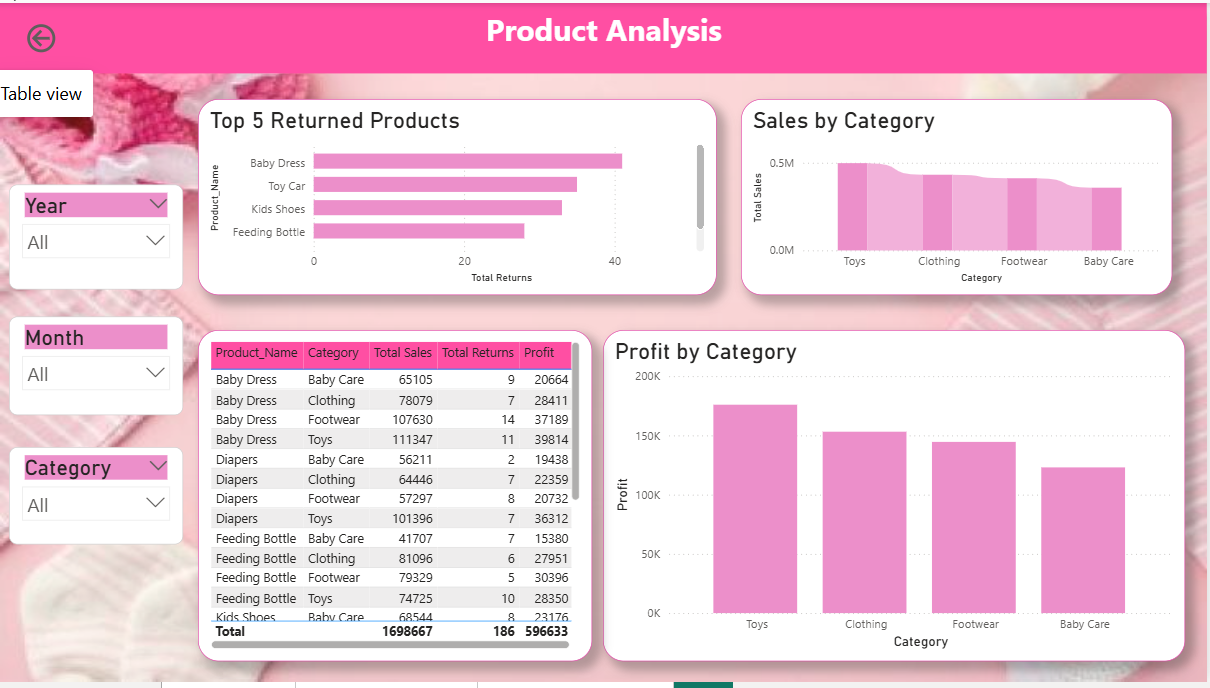

The dashboard page shown, as its layout file describes it:
{"tool":"powerbi","page":{"name":"Product Analysis","canvas":[1280,720],"ordinal":2},"visuals":[{"type":"textbox","box":[0,0,1280.4,74.8],"z":0},{"type":"actionButton","box":[23.9,17.5,100.2,39.8],"z":1000},{"type":"barChart","title":"Top 5 Returned Products","fields":{"Category":["Orders.Product_Name"],"Y":["Measure Table.Total Returns"]},"box":[209.8,102,549.9,207.9],"z":2000},{"type":"ribbonChart","title":" Sales by Category","fields":{"Category":["Orders.Category"],"Y":["Measure Table.Total Sales"]},"box":[786.1,102,457.3,207.9],"z":3000},{"type":"columnChart","fields":{"Category":["Orders.Category"],"Y":["Measure Table.Profit"]},"box":[639.4,346.8,617.2,351.5],"z":4000},{"type":"tableEx","fields":{"Values":["Orders.Product_Name","Orders.Category","Measure Table.Total Sales","Measure Table.Total Returns","Measure Table.Profit"]},"box":[210,346.8,418.3,351.5],"z":5000},{"type":"slicer","fields":{"Values":["DateTable.Date.Variation.Date Hierarchy.Year"]},"box":[9.5,192.5,184.5,111.3],"z":6000},{"type":"slicer","fields":{"Values":["DateTable.Date.Variation.Date Hierarchy.Month"]},"box":[9.5,332.4,184.5,105],"z":7000},{"type":"slicer","fields":{"Values":["Orders.Category"]},"box":[9.5,470.8,184.5,103.4],"z":8000}]}

Visuals, with their boxes in screenshot pixels (x1, y1, x2, y2), scaled from the page's 1280x720 canvas onto the 1210x688 screenshot:
textbox: pyautogui.locateOnScreen(0, 0, 1209, 71)
actionButton: pyautogui.locateOnScreen(23, 17, 117, 55)
"Top 5 Returned Products" barChart: pyautogui.locateOnScreen(198, 97, 718, 296)
" Sales by Category" ribbonChart: pyautogui.locateOnScreen(743, 97, 1175, 296)
columnChart - Orders.Category x Measure Table.Profit: pyautogui.locateOnScreen(604, 331, 1188, 667)
tableEx - Orders.Product_Name x Orders.Category: pyautogui.locateOnScreen(199, 331, 594, 667)
slicer - DateTable.Date.Variation.Date Hierarchy.Year: pyautogui.locateOnScreen(9, 184, 183, 290)
slicer - DateTable.Date.Variation.Date Hierarchy.Month: pyautogui.locateOnScreen(9, 318, 183, 418)
slicer - Orders.Category: pyautogui.locateOnScreen(9, 450, 183, 549)
